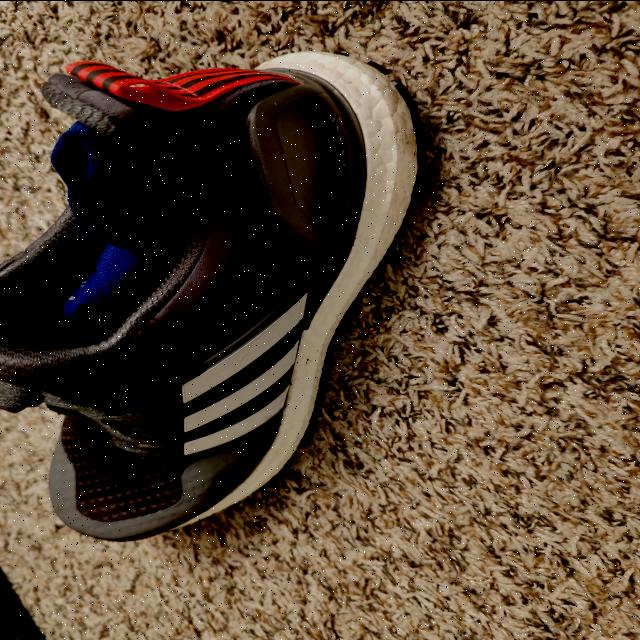black shoes: (0, 52, 414, 538)
